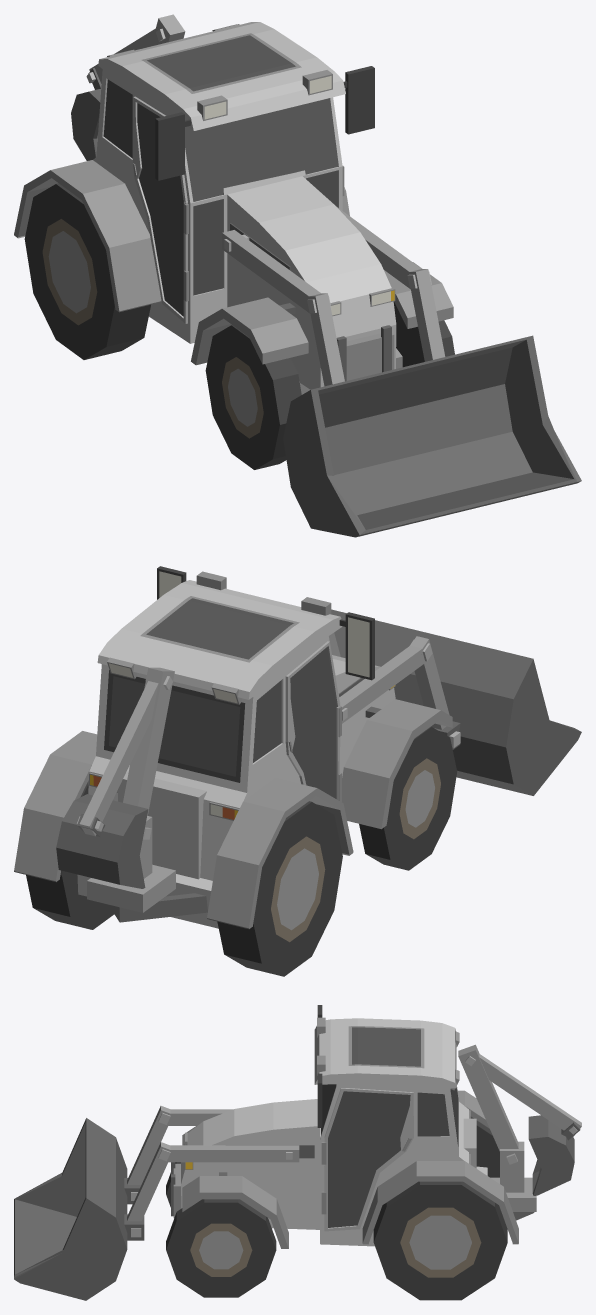
The model's file is kar6.fbx.
3 views of the same model, one above another, from view 1: azimuth 30°, elevation 25°; view 2: azimuth 150°, elevation 25°; view 3: azimuth 270°, elevation 25° (orthographic). The views are drawn at different scales.
Visible parts, largest first — view 1: Boole_1, Cube_5_2, Cylinder_5, Cylinder_2, Cube_3_2, Cube_14, Cube_5, Cylinder; view 2: Boole_1, Cube_5_2, Cylinder_5, Cylinder_2, Cube_5, Cube_4, Cube_3, Cylinder_1, Cube_14, Cube_3_2; view 3: Boole_1, Cube_5_2, Cylinder_1, Cylinder, Cube_14, Cube_5, Cube_3_2, Cube_3, Cube_4, Cylinder_5.
Boxes of the visible parts, bbox=[...] form: Boole_1: bbox=[14, 22, 453, 394]; Cube_5_2: bbox=[283, 335, 581, 537]; Cylinder_5: bbox=[24, 183, 150, 359]; Cylinder_2: bbox=[205, 325, 301, 469]; Cube_3_2: bbox=[307, 269, 445, 386]; Cube_14: bbox=[222, 206, 421, 313]; Cube_5: bbox=[71, 68, 101, 160]; Cylinder: bbox=[393, 302, 454, 367]; Boole_1: bbox=[14, 566, 452, 928]; Cube_5_2: bbox=[331, 609, 581, 795]; Cylinder_5: bbox=[217, 801, 342, 976]; Cylinder_2: bbox=[359, 726, 457, 870]; Cube_5: bbox=[56, 794, 148, 888]; Cube_4: bbox=[79, 676, 172, 836]; Cube_3: bbox=[123, 667, 174, 839]; Cylinder_1: bbox=[26, 780, 114, 929]; Cube_14: bbox=[339, 645, 423, 723]; Cube_3_2: bbox=[329, 632, 449, 729]; Boole_1: bbox=[171, 1005, 536, 1248]; Cube_5_2: bbox=[14, 1118, 144, 1300]; Cylinder_1: bbox=[373, 1181, 507, 1300]; Cylinder: bbox=[166, 1199, 276, 1297]; Cube_14: bbox=[168, 1109, 299, 1162]; Cube_5: bbox=[528, 1115, 580, 1195]; Cube_3_2: bbox=[127, 1106, 173, 1221]; Cube_3: bbox=[458, 1044, 518, 1164]; Cube_4: bbox=[465, 1054, 581, 1136]; Cylinder_5: bbox=[470, 1116, 499, 1177].
Bounding box in the file's own units: 213 × 260 × 597.
